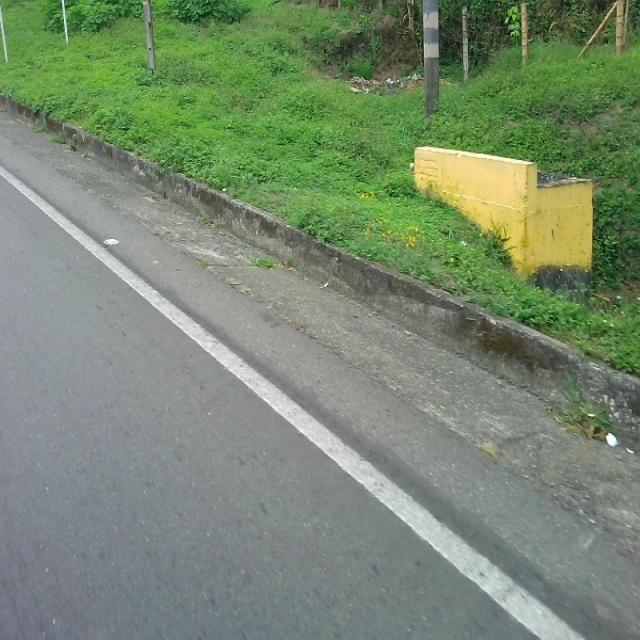DITCH: (1, 88, 638, 638), (1, 92, 639, 638)
